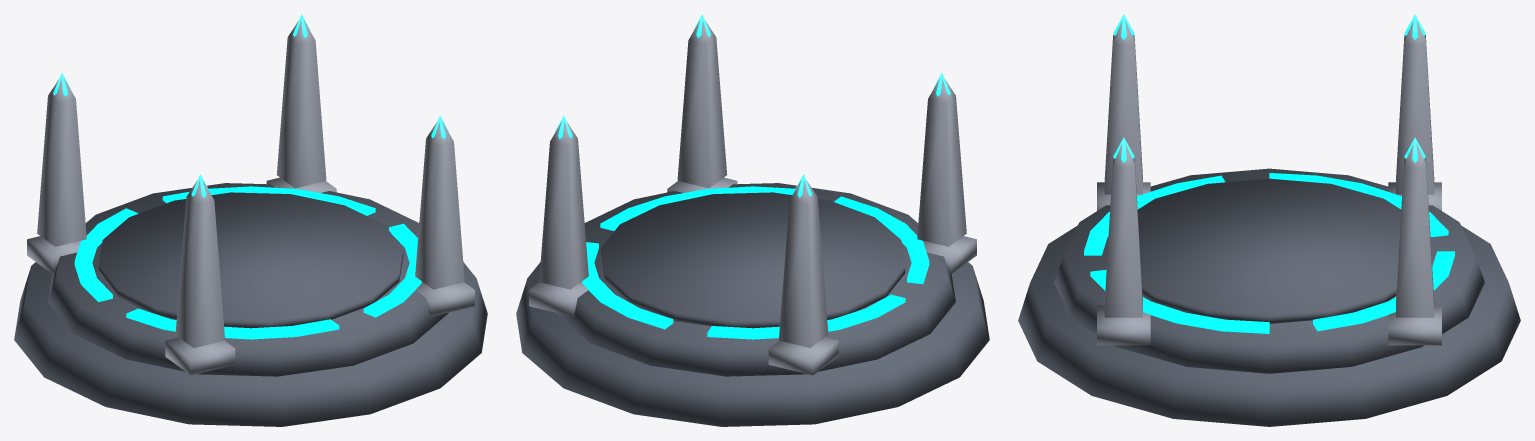
Rendered from Pedestal_Tier1_Combined.fbx.
3 renders of one model, left to right at view 1: azimuth 30°, elevation 25°; view 2: azimuth 150°, elevation 25°; view 3: azimuth 270°, elevation 25°, orthographic. The views are drawn at different scales.
Visible parts, largest first — view 1: Pedestal_Tier1_Combined; view 2: Pedestal_Tier1_Combined; view 3: Pedestal_Tier1_Combined.
Part boxes in pixels (box(x1,y1,x2,y2)): Pedestal_Tier1_Combined: box(14, 14, 487, 426); Pedestal_Tier1_Combined: box(516, 14, 989, 426); Pedestal_Tier1_Combined: box(1018, 14, 1520, 426).
Size of the model in its own units: 4.2 by 2.26 by 4.2.
